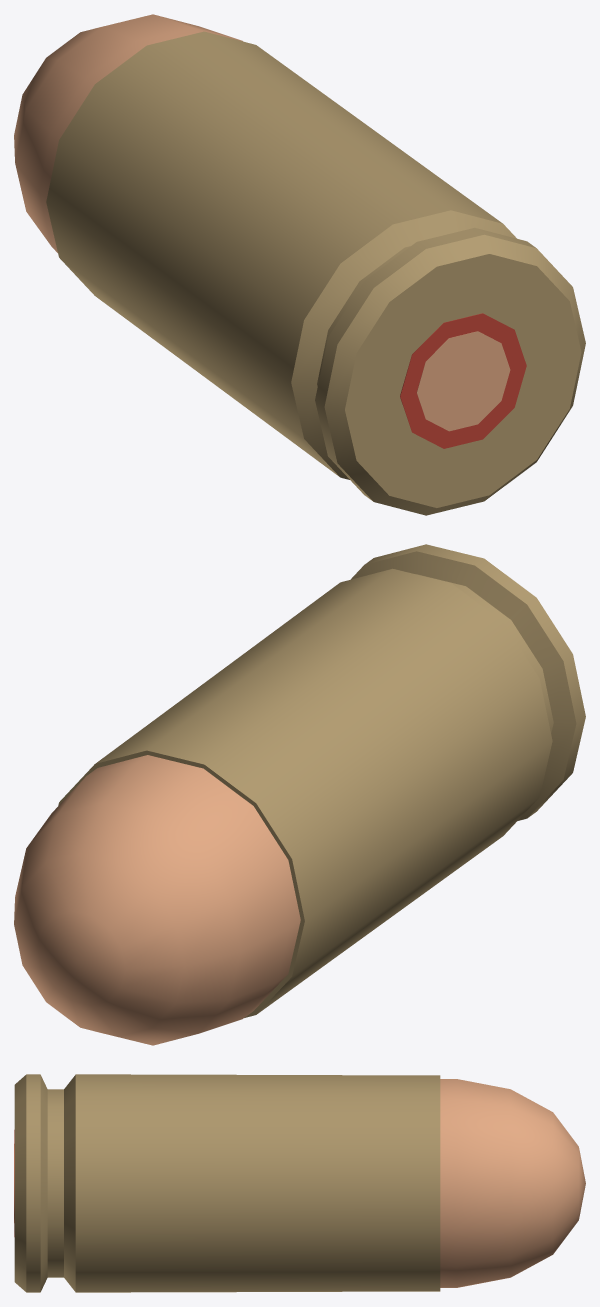
The model's file is round_9x18_repack.glb.
3 renders of one model, top to bottom at view 1: azimuth 30°, elevation 25°; view 2: azimuth 150°, elevation 25°; view 3: azimuth 270°, elevation 25°, orthographic. The views are drawn at different scales.
Visible parts, largest first — view 1: body; view 2: body; view 3: body.
Part boxes in pixels (x1=…): body: x1=14, y1=14, x2=585, y2=515; body: x1=14, y1=544, x2=585, y2=1045; body: x1=14, y1=1074, x2=585, y2=1292.
Bounding box in the file's own units: 0.0095 × 0.00926 × 0.0243.
